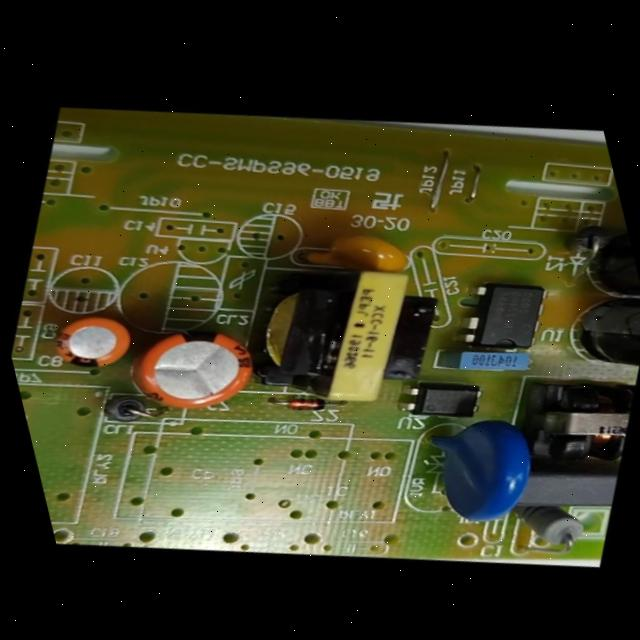Cap1: (93, 288, 295, 453)
Cap2: (26, 290, 155, 395)
Cap3: (537, 276, 640, 391)
Cap4: (534, 201, 640, 325)
MOSFET: (431, 257, 575, 379)
Mov: (380, 382, 571, 552)
Resistor: (502, 484, 603, 572)
Transformer: (195, 215, 480, 454), (483, 348, 640, 490)
